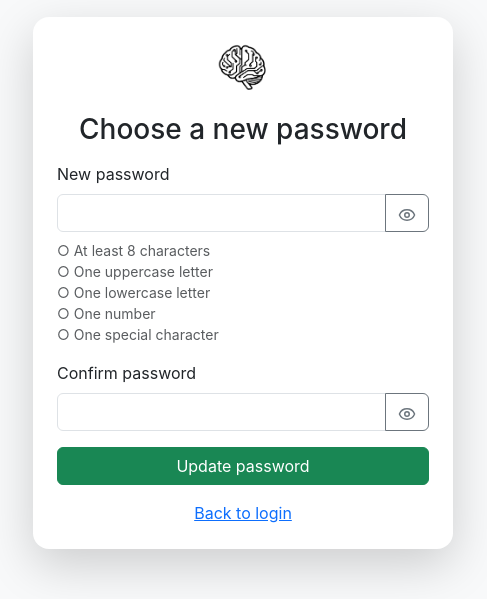
Test: reset password submits the token and matching new password
In the password field labelled "New password": (222, 213) [57, 194, 386, 232], type "New-password123!"
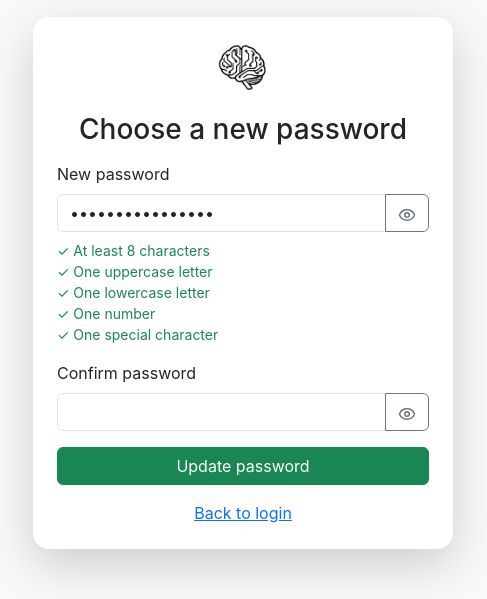
In the password field labelled "Confirm password": (222, 412) [57, 393, 386, 431], type "New-password123!"
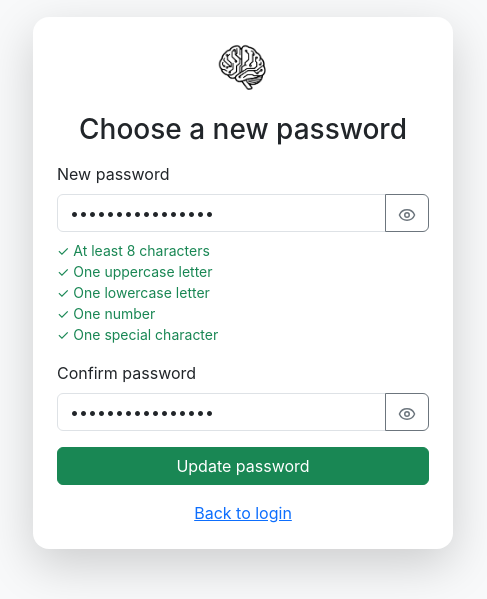
Click the button "Update password": click(243, 466) [57, 447, 429, 485]
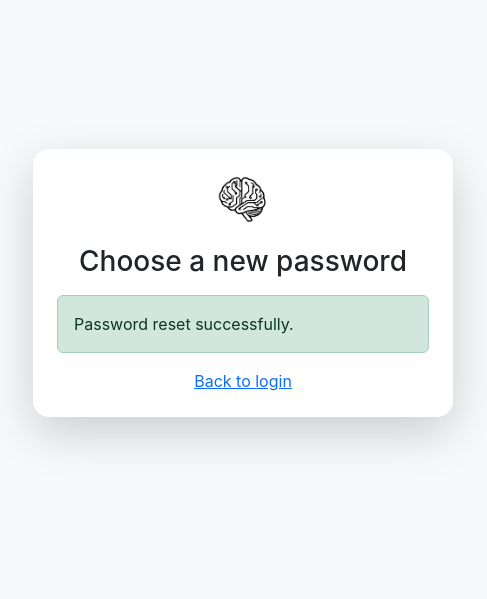
Check: the message shows "Password reset successfully", box [74, 314, 294, 334]
